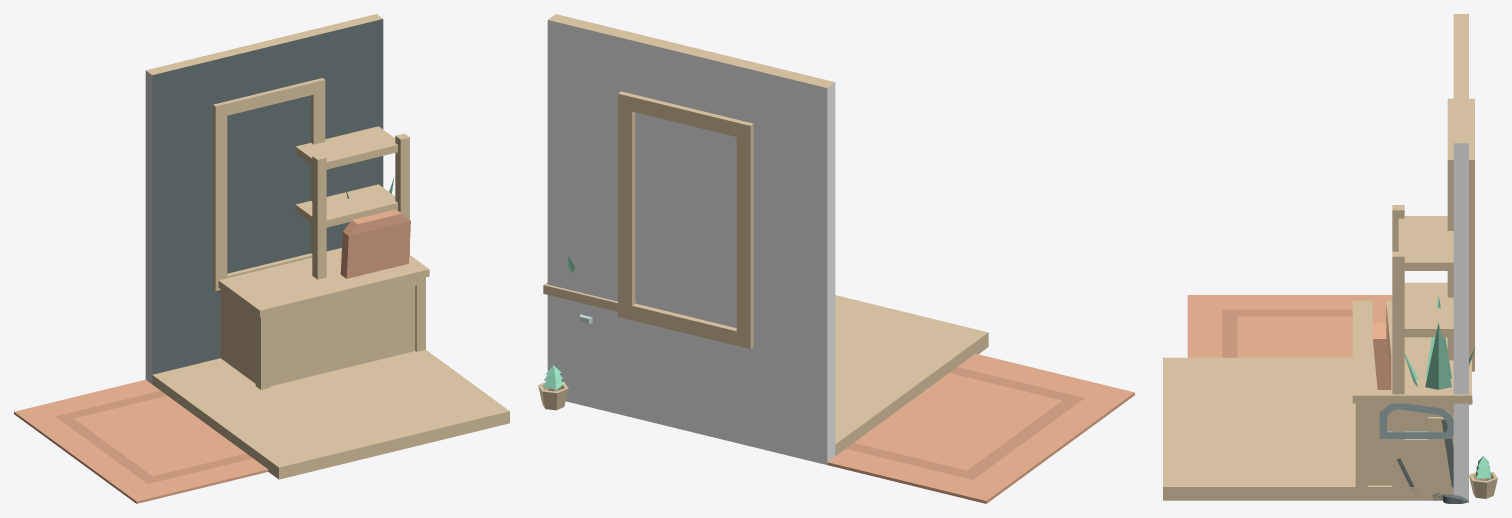
The model's file is kit.glb.
3 renders of one model, left to right at view 1: azimuth 30°, elevation 25°; view 2: azimuth 150°, elevation 25°; view 3: azimuth 270°, elevation 25°, orthographic. The views are drawn at different scales.
Parts seen in each view (by area): view 1: wall_mesh, wallWindow_mesh, floorFull_mesh, desk_mesh, rugRectangle_mesh, bookcaseOpen_mesh, chairDesk_mesh; view 2: wall_mesh, wallWindow_mesh, rugRectangle_mesh, floorFull_mesh, plantSmall1_mesh, desk_mesh; view 3: floorFull_mesh, rugRectangle_mesh, desk_mesh, bookcaseOpen_mesh, wall_mesh, wallWindow_mesh, chairDesk_mesh, cardboardBoxClosed_mesh, pottedPlant_mesh, plantSmall1_mesh.
Part boxes in pixels (left/top/right/bottom): wall_mesh: left=145, top=14, right=383, bottom=383; wallWindow_mesh: left=147, top=15, right=383, bottom=376; floorFull_mesh: left=152, top=350, right=509, bottom=479; desk_mesh: left=218, top=248, right=429, bottom=389; rugRectangle_mesh: left=14, top=379, right=268, bottom=503; bookcaseOpen_mesh: left=295, top=126, right=409, bottom=279; chairDesk_mesh: left=340, top=209, right=410, bottom=278; wall_mesh: left=547, top=14, right=835, bottom=464; wallWindow_mesh: left=547, top=15, right=827, bottom=464; rugRectangle_mesh: left=827, top=353, right=1134, bottom=503; floorFull_mesh: left=835, top=295, right=988, bottom=455; plantSmall1_mesh: left=538, top=365, right=568, bottom=410; desk_mesh: left=543, top=282, right=617, bottom=311; floorFull_mesh: left=1163, top=357, right=1453, bottom=500; rugRectangle_mesh: left=1187, top=295, right=1429, bottom=500; desk_mesh: left=1352, top=300, right=1471, bottom=500; bookcaseOpen_mesh: left=1392, top=205, right=1453, bottom=486; wall_mesh: left=1453, top=14, right=1468, bottom=500; wallWindow_mesh: left=1447, top=98, right=1474, bottom=371; chairDesk_mesh: left=1372, top=298, right=1453, bottom=438; cardboardBoxClosed_mesh: left=1404, top=439, right=1453, bottom=486; pottedPlant_mesh: left=1404, top=295, right=1475, bottom=389; plantSmall1_mesh: left=1469, top=456, right=1497, bottom=498.
Bounding box in the file's own units: 15.95 × 12.9 × 10.95.
